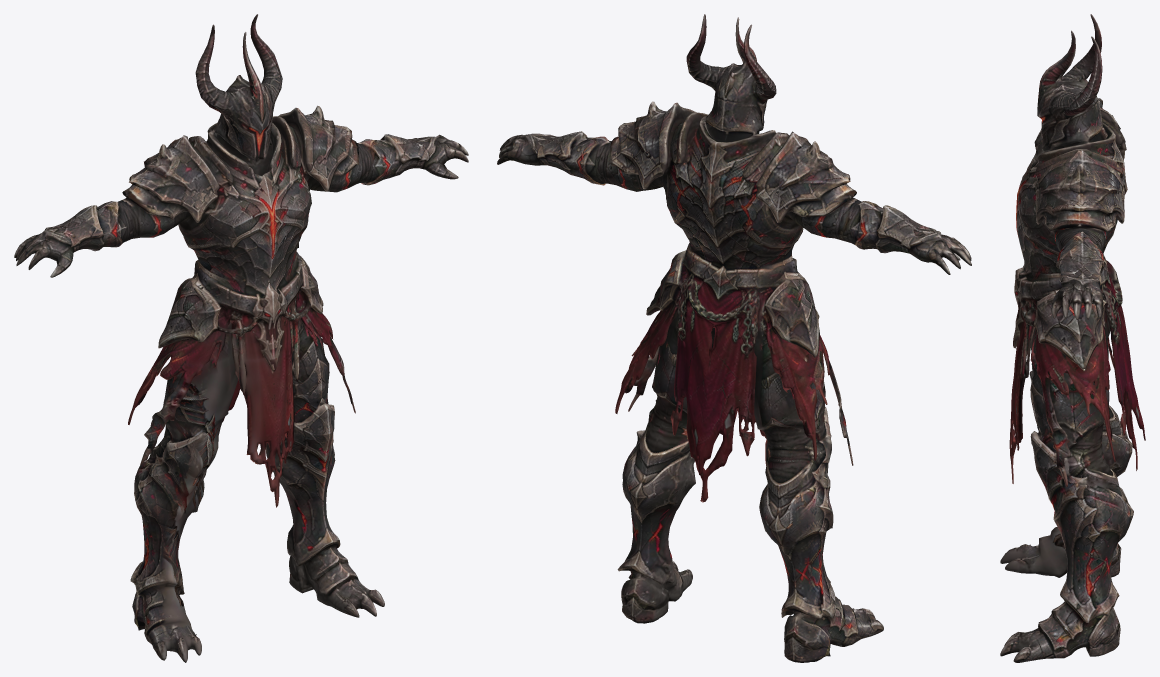
The model's file is boss.obj.
3 renders of one model, left to right at view 1: azimuth 30°, elevation 25°; view 2: azimuth 150°, elevation 25°; view 3: azimuth 270°, elevation 25°, orthographic. The views are drawn at different scales.
Parts seen in each view (by area): view 1: boss_character; view 2: boss_character; view 3: boss_character.
Part boxes in pixels (left/top/right/bottom): boss_character: left=14, top=14, right=468, bottom=662; boss_character: left=497, top=14, right=971, bottom=662; boss_character: left=1000, top=14, right=1145, bottom=662.
Size of the model in its own units: 1.45 by 1.8 by 0.4053.
1 material, 1 textured.
